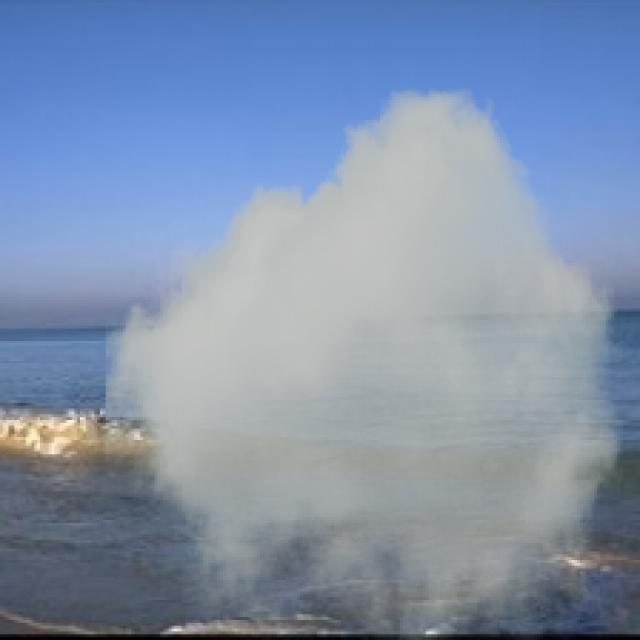smoke: (105, 89, 626, 637)
